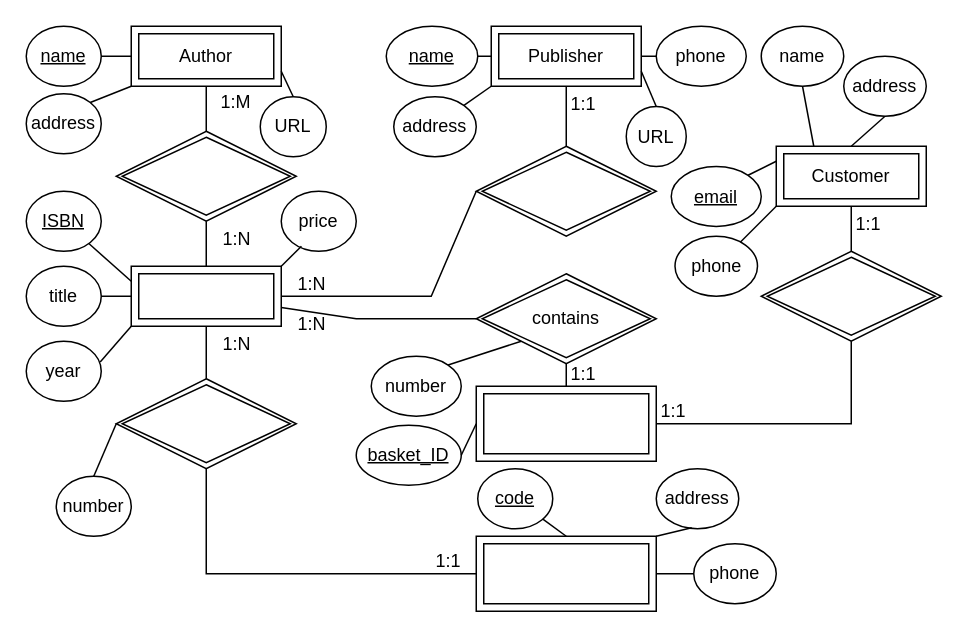
Some shapes in this 968 by 638 pixel diagram are drawn without their labels. The shapes that lost their labels are listed below. From the top down, each one's centre as x and y in pixels, then its label:
[205,175]: written_by
[565,190]: published_by
[205,295]: Book
[850,295]: basket_of
[205,423]: stocks
[565,423]: Shopping_Basket
[565,573]: Warehouse
